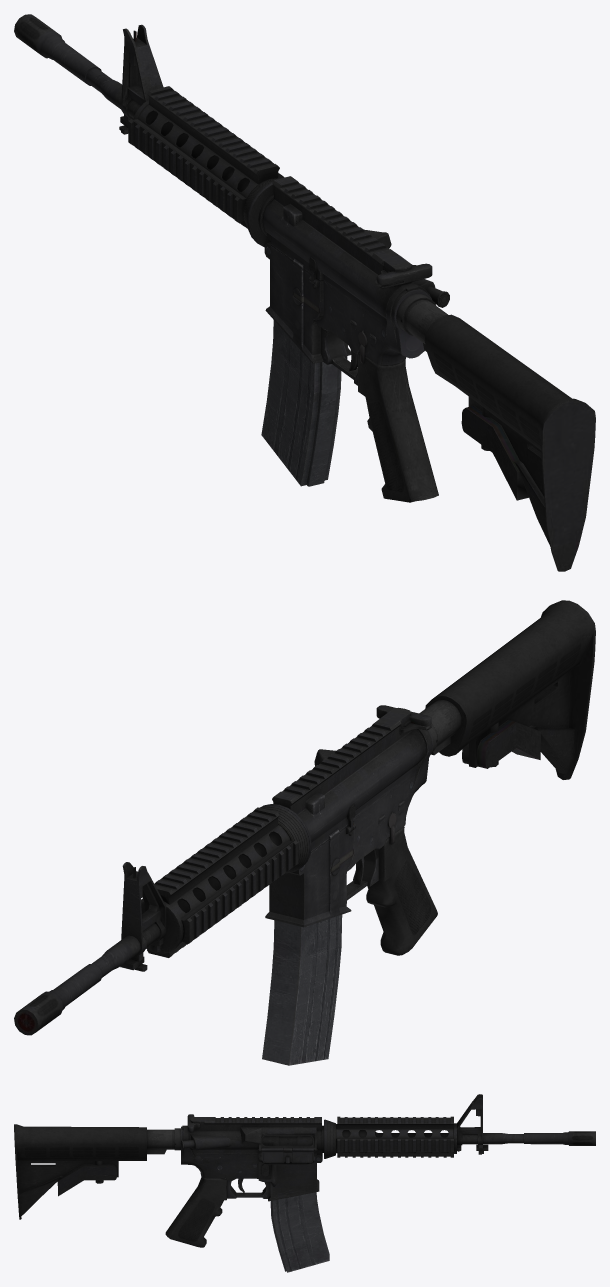
File: gun_ar_lite.glb
The picture shows the model from 3 angles, top to bottom: view 1: azimuth 30°, elevation 25°; view 2: azimuth 150°, elevation 25°; view 3: azimuth 270°, elevation 25°; orthographic projection. The views are drawn at different scales.
Visible parts, largest first — view 1: M4A1, clip; view 2: M4A1, clip; view 3: M4A1, clip.
Boxes of the visible parts, box(x1,y1,x2,y2) form: M4A1: box(14, 14, 595, 571); clip: box(261, 320, 341, 486); M4A1: box(14, 600, 595, 1035); clip: box(262, 914, 342, 1065); M4A1: box(14, 1094, 595, 1247); clip: box(270, 1192, 329, 1272).
Bounding box in the file's own units: 10.67 × 47.48 × 145.
1 material, 1 textured.
